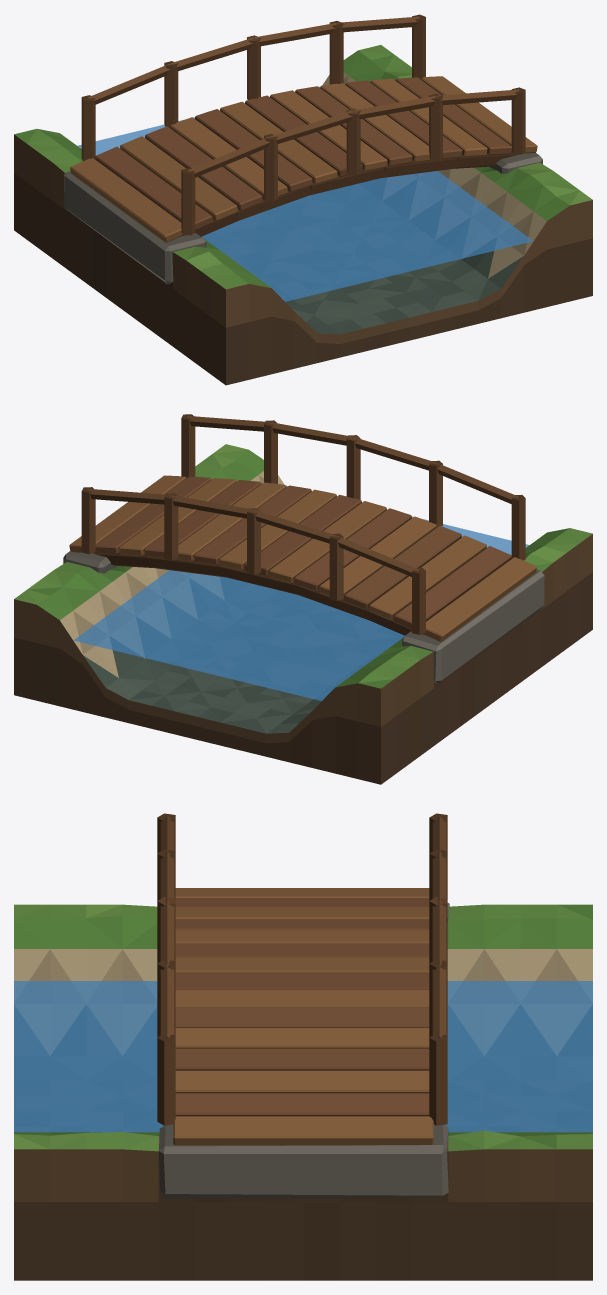
The model's file is bridge.glb.
The picture shows the model from 3 angles, top to bottom: view 1: azimuth 30°, elevation 25°; view 2: azimuth 150°, elevation 25°; view 3: azimuth 270°, elevation 25°; orthographic projection. The views are drawn at different scales.
Visible parts, largest first — view 1: Bridge; view 2: Bridge; view 3: Bridge.
Part boxes in pixels (bbox=[...]): Bridge: bbox=[14, 14, 592, 385]; Bridge: bbox=[14, 414, 592, 784]; Bridge: bbox=[14, 813, 592, 1280].
Bounding box in the file's own units: 2.07 × 0.9849 × 2.
